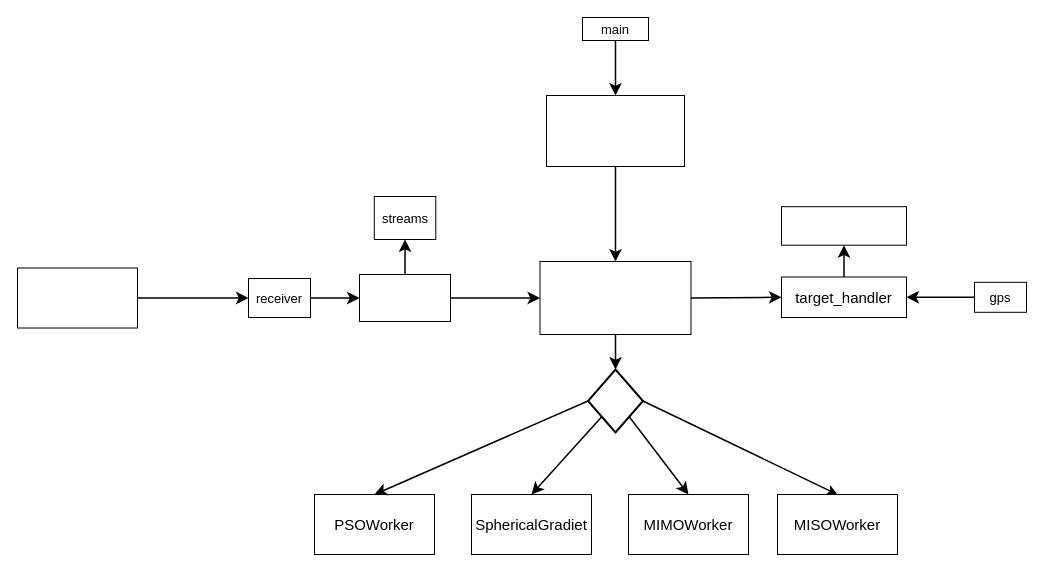
Some shapes in this 1044 by 572 pixel diagram are drawn without their labels. The shapes that lost their labels are listed below. From the top down, each one's box as (x1, y1, x2, y2) in pixels, then its label:
(546, 94, 684, 166): aw_control_unit
(780, 206, 906, 245): wara_ps_client
(16, 267, 138, 328): FPGA
(358, 274, 450, 322): pipeline
(539, 260, 691, 334): aw_processing_unit
